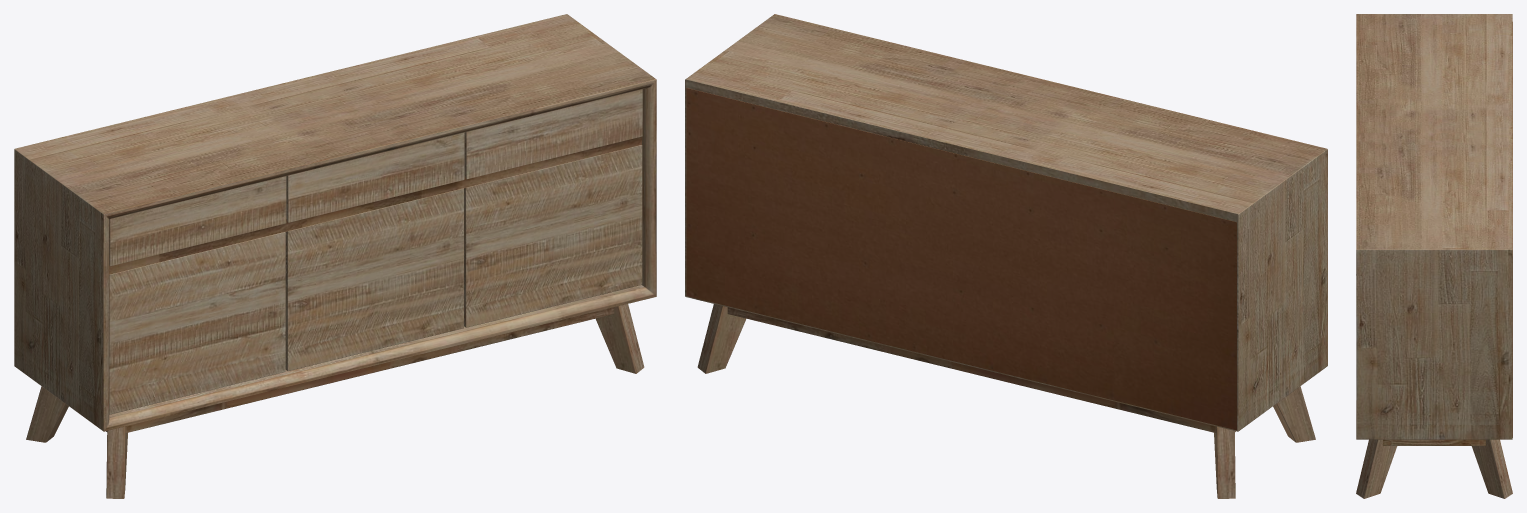
The model's file is sideboard-3-drawer.glb.
3 renders of one model, left to right at view 1: azimuth 30°, elevation 25°; view 2: azimuth 150°, elevation 25°; view 3: azimuth 270°, elevation 25°, orthographic. The views are drawn at different scales.
Parts seen in each view (by area): view 1: RootNode; view 2: RootNode; view 3: RootNode.
Part boxes in pixels (left/top/right/bottom): RootNode: left=14, top=14, right=656, bottom=498; RootNode: left=685, top=14, right=1327, bottom=498; RootNode: left=1356, top=14, right=1512, bottom=498.
Bounding box in the file's own units: 1.6 × 0.8 × 0.45.
1 material, 1 textured.
